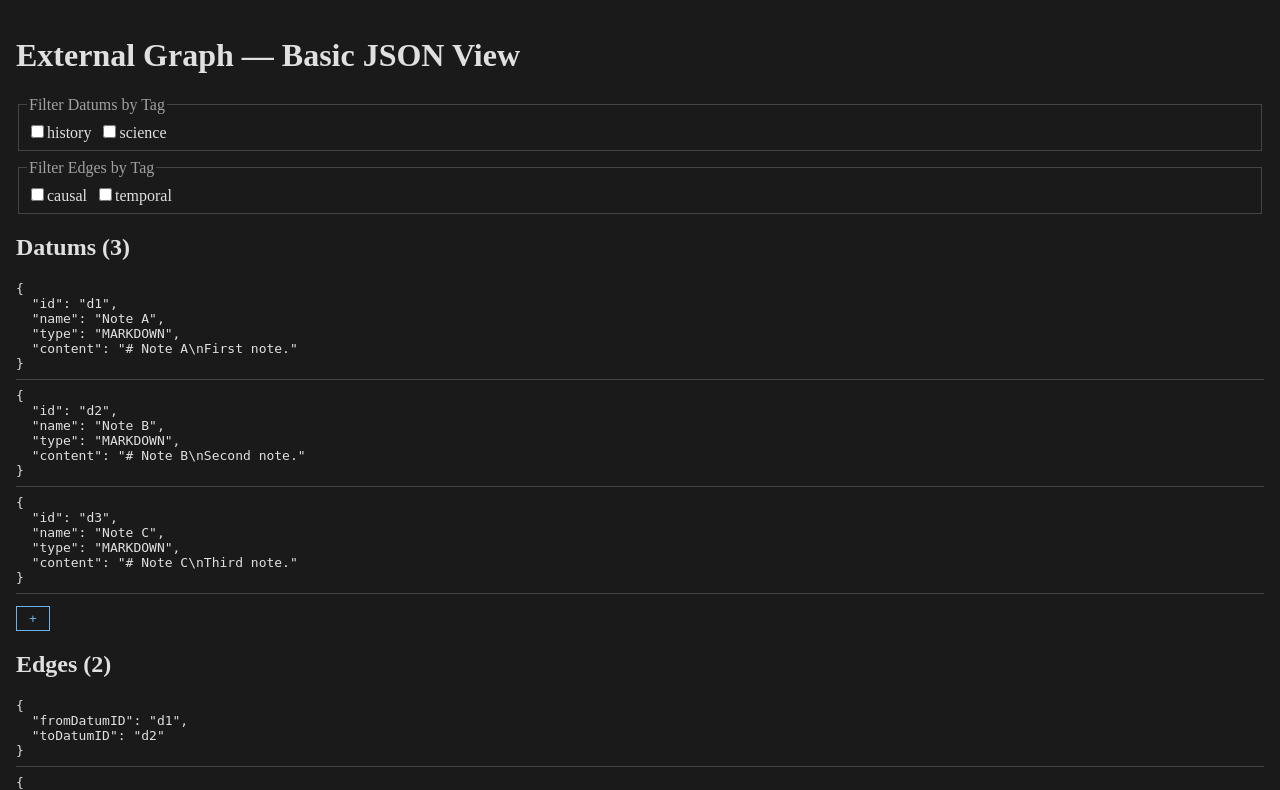
Test: BasicJsonView › removes filter when tag is deselected
Step 1. Click the checkbox labelled "science" → x=110, y=131, box x1=104 y1=125 x2=116 y2=138
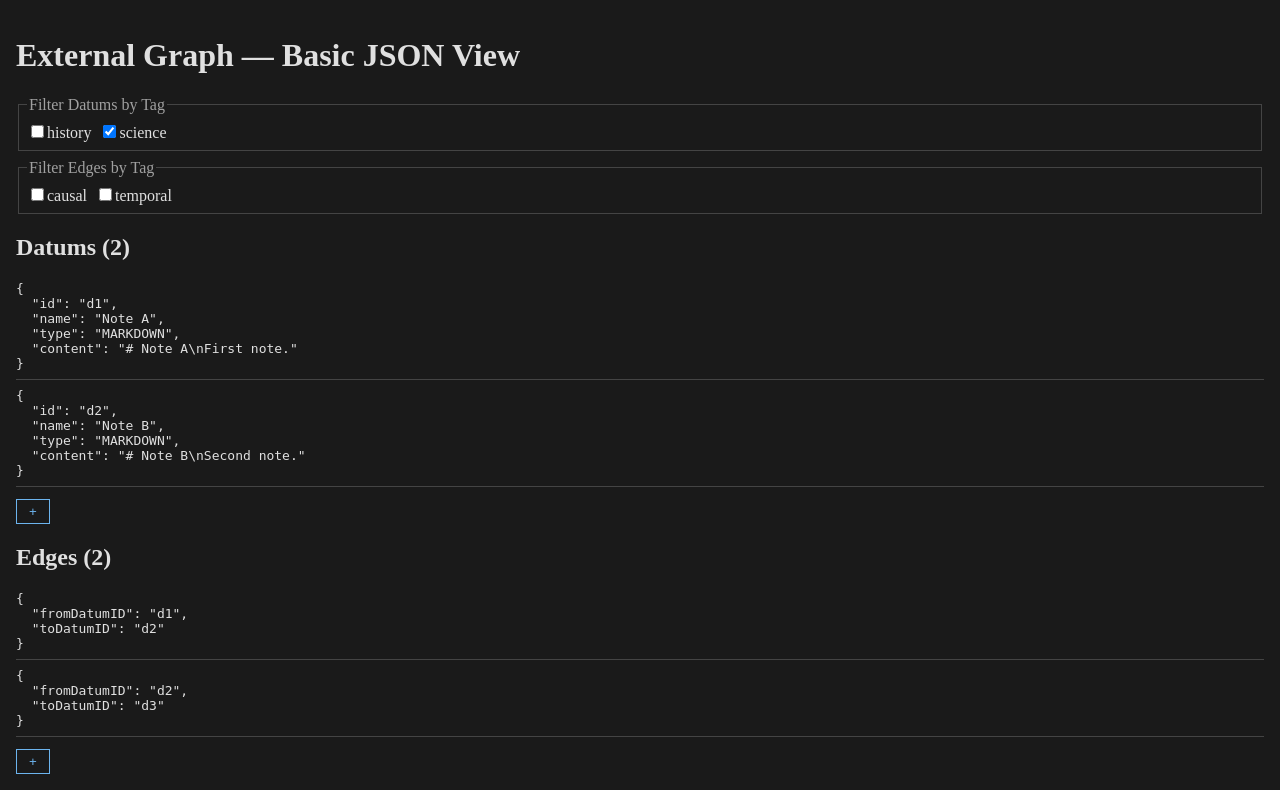
Check: the heading "Datums (2)" is shown, box x1=16 y1=234 x2=130 y2=260
Step 2. Click the checkbox labelled "science" → x=110, y=131, box x1=104 y1=125 x2=116 y2=138
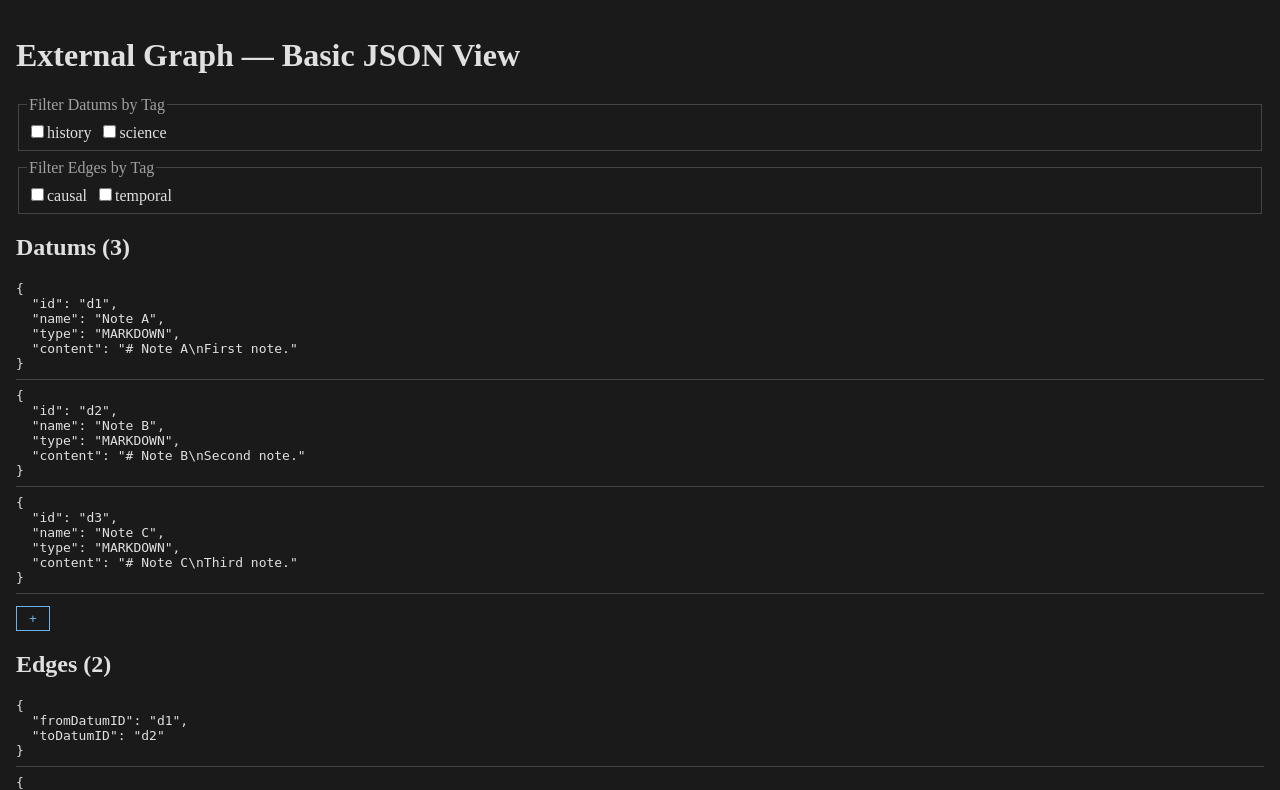
Check: the heading "Datums (3)" is shown, box x1=16 y1=234 x2=130 y2=260
